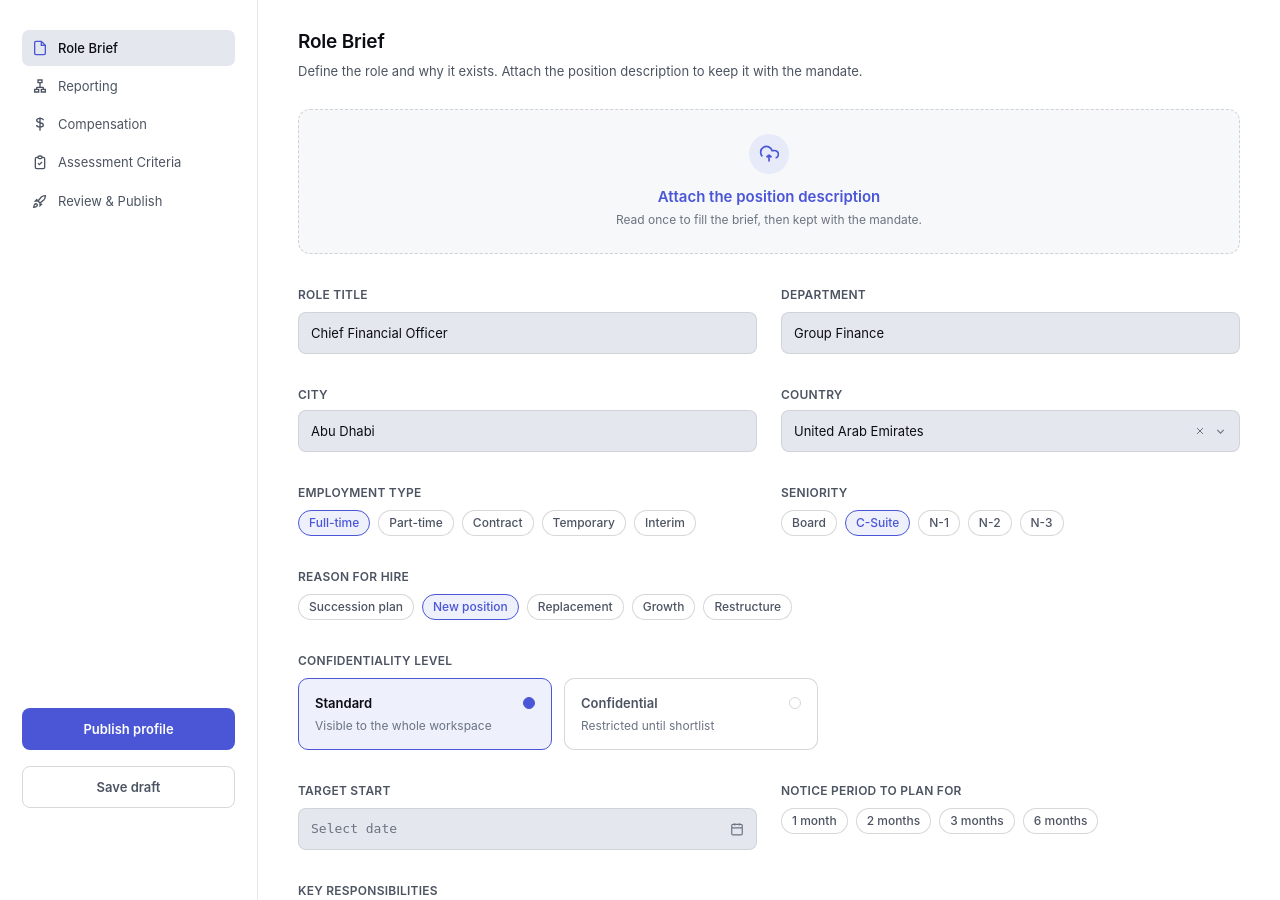
Test: PositionPage › the Role Brief › writes the target start to the project, which is where the mandate keeps it
The width and height of the screenshot is (1280, 900).
Check: the heading "Role Brief" is shown, box [298,30,385,53]
Type "2026-12-01" into the date field labelled "Select date". click: (528, 829)
box: [298,808,757,850]
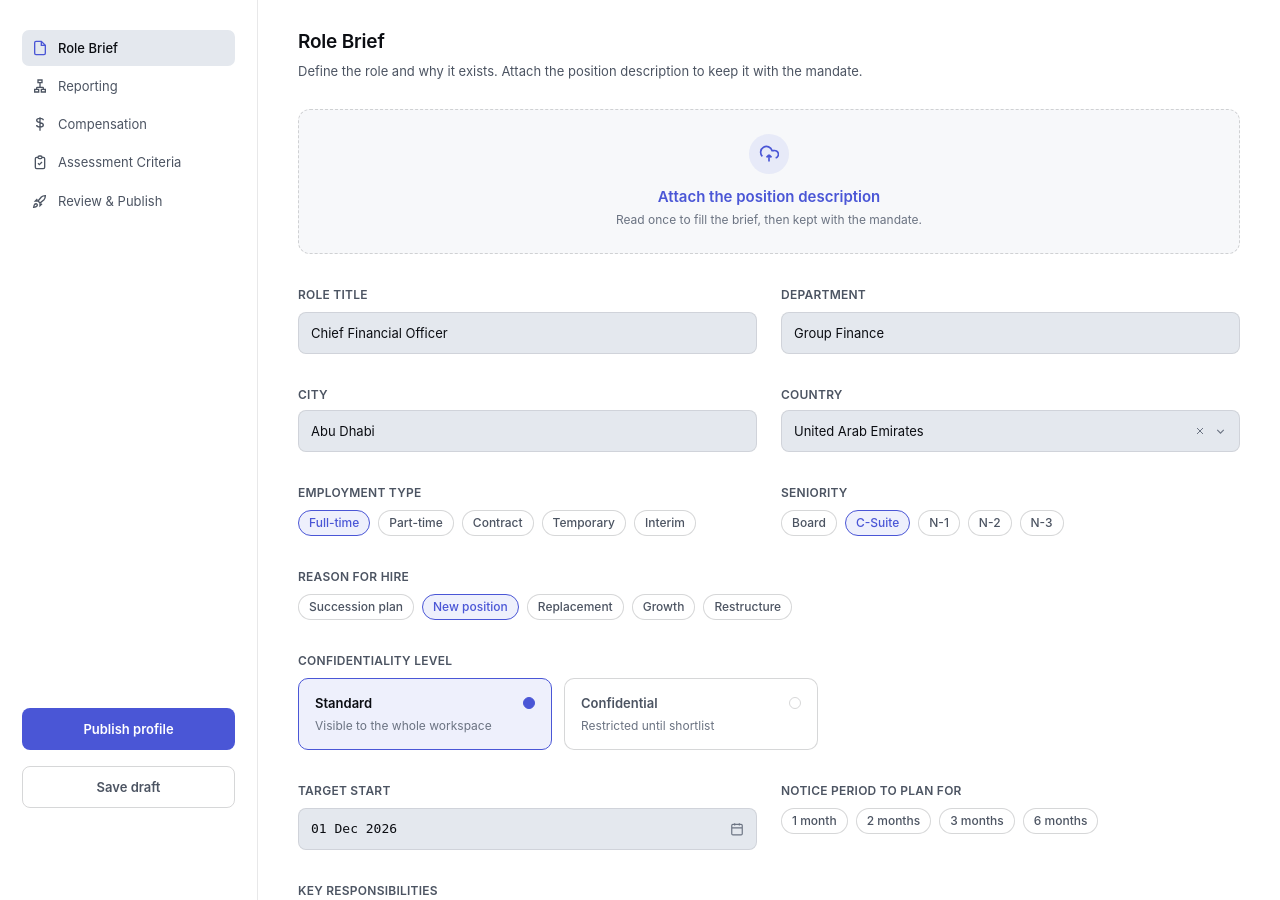
Check: the text "01 Dec 2026" is shown, box [311,819,397,839]
